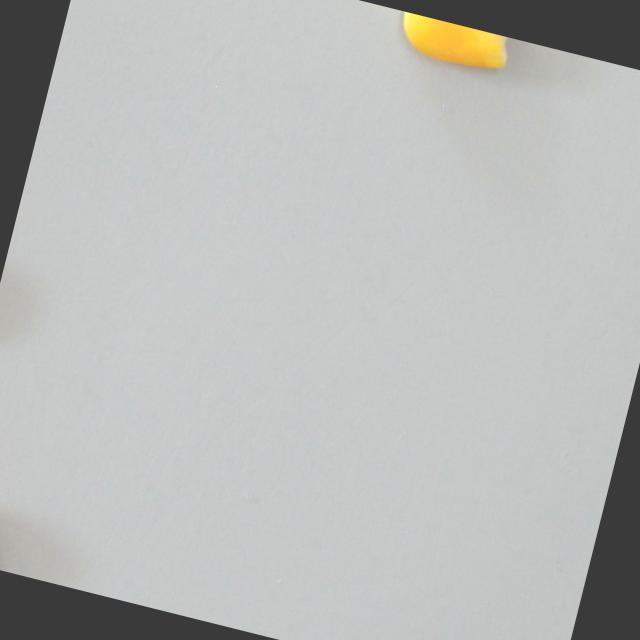no_canjicado: (390, 10, 524, 83)
